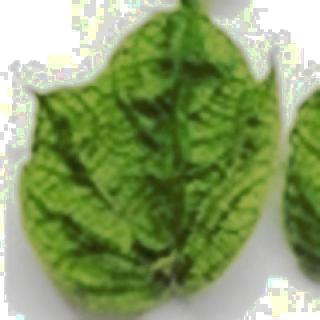curl: (24, 32, 270, 294)
